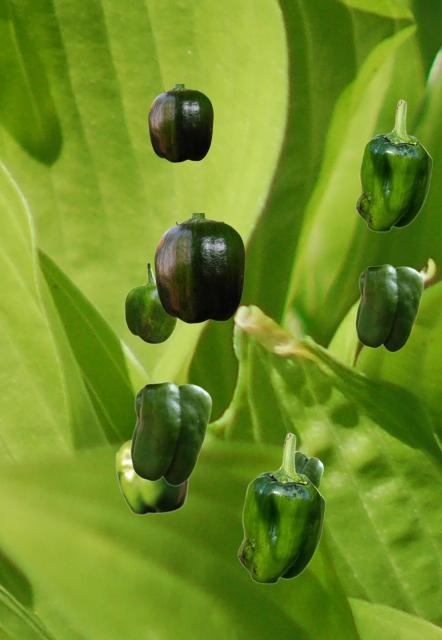bell_pepper: (237, 432, 324, 583), (355, 99, 431, 231), (154, 213, 244, 322), (130, 381, 211, 485), (355, 264, 423, 351), (115, 439, 188, 514), (148, 84, 212, 161), (124, 262, 177, 343), (296, 451, 322, 488)
